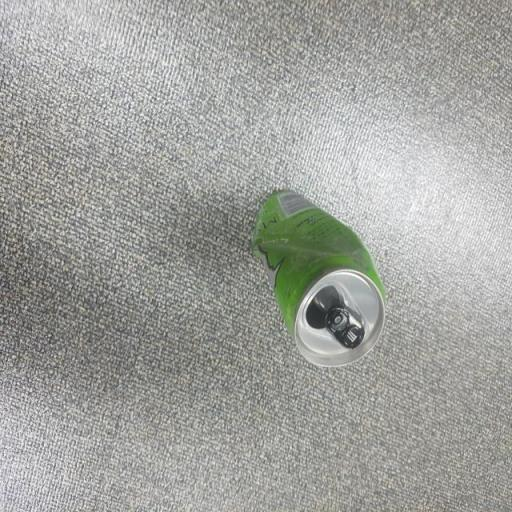metal: (222, 164, 415, 396)
